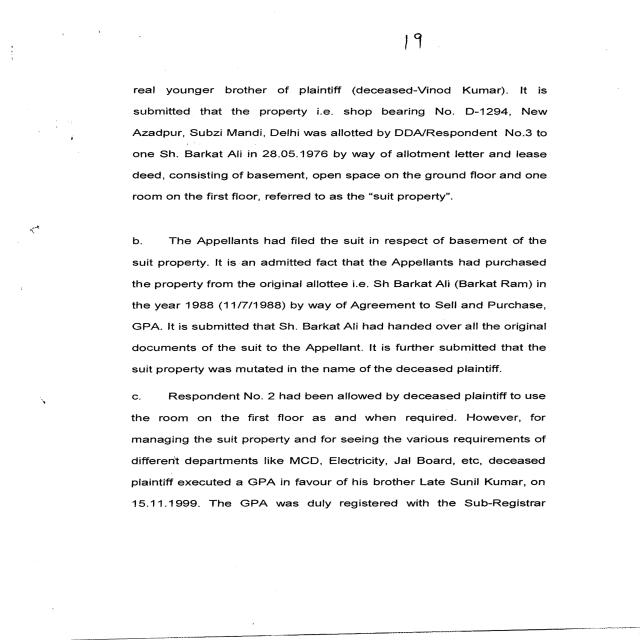page-number: (361, 2, 635, 85)
